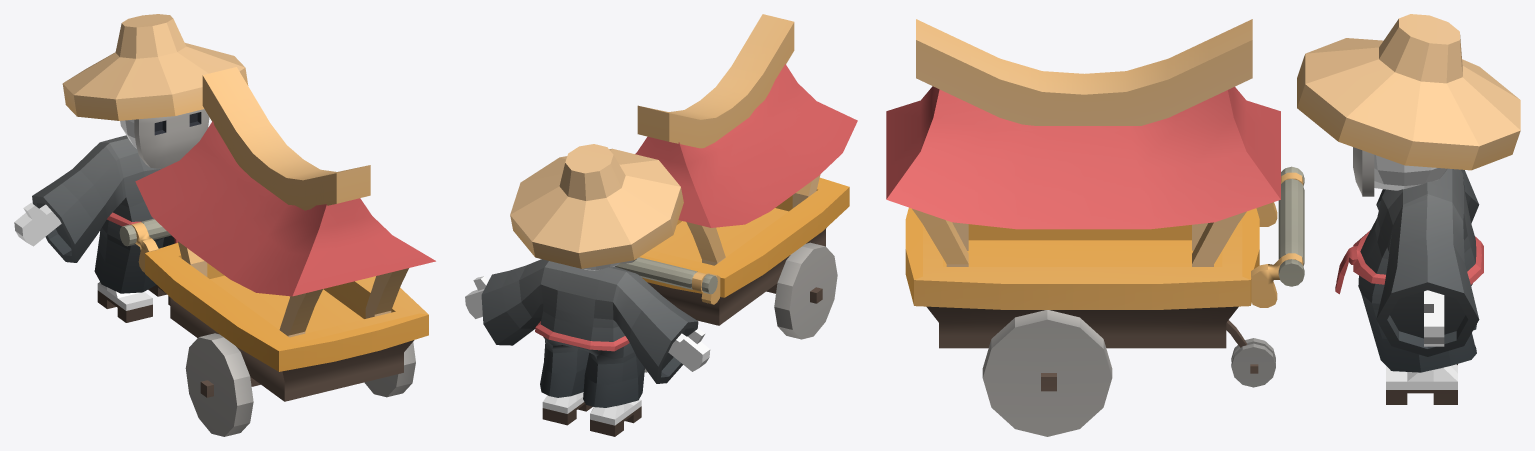
The model's file is A_player_red.fbx.
3 renders of one model, left to right at view 1: azimuth 30°, elevation 25°; view 2: azimuth 150°, elevation 25°; view 3: azimuth 270°, elevation 25°, orthographic. The views are drawn at different scales.
Parts seen in each view (by area): view 1: roof, wagonBody, hat, yukata, frontWheels, mask, hand, polySurface1, polySurface2; view 2: roof, yukata, hat, wagonBody, frontWheels, hand, polySurface2, polySurface1, belt; view 3: roof, wagonBody, hat, yukata, frontWheels, backWheels, head, polySurface2, belt, hand, mask, polySurface1.
Part boxes in pixels (x1,y1,x2,y2): roof: [135, 67, 435, 296]; wagonBody: [119, 218, 428, 401]; hat: [62, 14, 248, 120]; yukata: [32, 135, 174, 293]; frontWheels: [185, 333, 415, 436]; mask: [134, 109, 209, 168]; hand: [14, 203, 61, 246]; polySurface1: [97, 285, 170, 322]; polySurface2: [97, 282, 152, 310]; roof: [635, 14, 857, 227]; yukata: [481, 259, 698, 407]; hat: [510, 144, 683, 268]; wagonBody: [615, 174, 849, 325]; frontWheels: [766, 242, 837, 339]; hand: [465, 276, 710, 371]; polySurface2: [542, 392, 641, 425]; polySurface1: [542, 402, 641, 436]; belt: [535, 321, 629, 351]; roof: [886, 19, 1280, 229]; wagonBody: [905, 166, 1304, 348]; hat: [1297, 14, 1520, 170]; yukata: [1358, 168, 1479, 372]; frontWheels: [982, 310, 1112, 436]; backWheels: [1231, 338, 1275, 387]; head: [1374, 154, 1447, 190]; polySurface2: [1386, 364, 1457, 389]; belt: [1335, 230, 1483, 294]; hand: [1424, 290, 1444, 346]; mask: [1353, 147, 1374, 196]; polySurface1: [1386, 364, 1457, 404].
Bounding box in the file's own units: 213 × 229 × 367.
